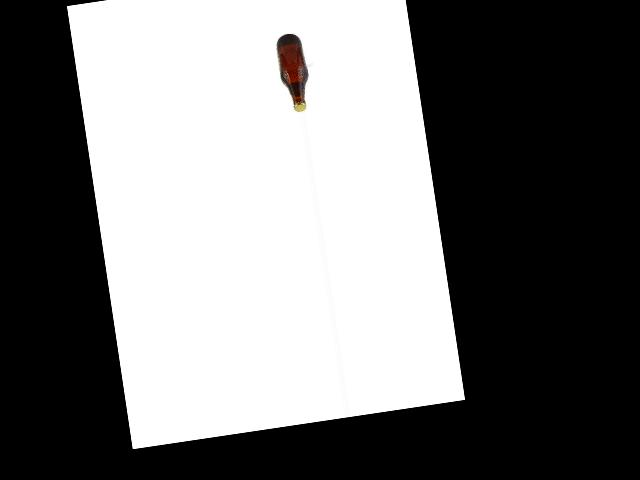beer: (275, 32, 312, 113)
